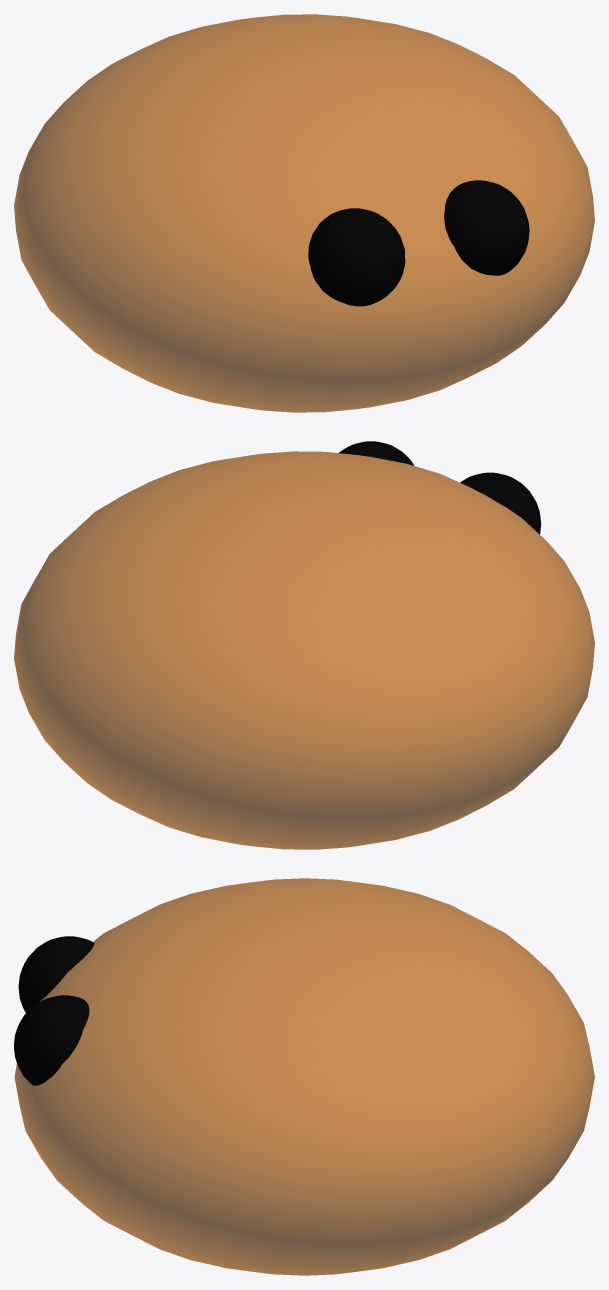
3 views of the same model, one above another, from view 1: azimuth 30°, elevation 25°; view 2: azimuth 150°, elevation 25°; view 3: azimuth 270°, elevation 25° (orthographic).
Parts seen in each view (by area): view 1: Sphere, Sphere.001, Sphere.002; view 2: Sphere, Sphere.001, Sphere.002; view 3: Sphere, Sphere.002, Sphere.001.
Part boxes in pixels (x1,y1,x2,y2): Sphere: (14, 14, 594, 412); Sphere.001: (308, 208, 405, 306); Sphere.002: (444, 180, 529, 275); Sphere: (14, 451, 594, 849); Sphere.001: (460, 472, 541, 534); Sphere.002: (339, 441, 414, 465); Sphere: (14, 878, 594, 1275); Sphere.002: (14, 995, 89, 1085); Sphere.001: (18, 936, 94, 1012).
Size of the model in its own units: 0.67 by 0.4 by 0.6706.
